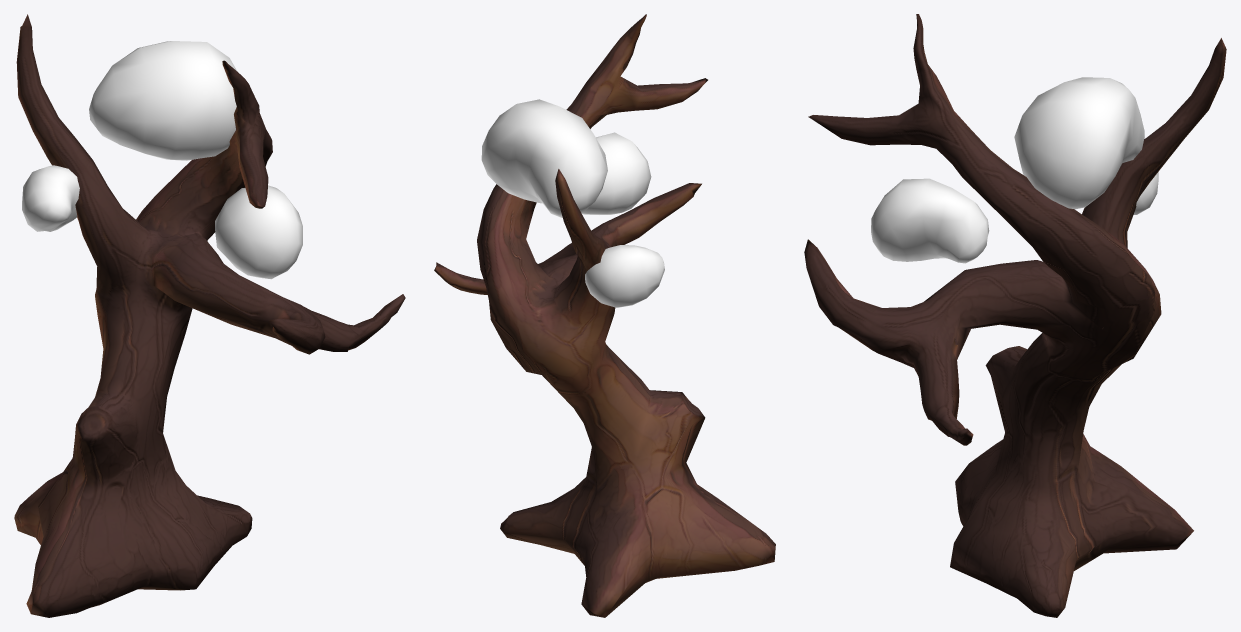
The model's file is tree4 1.fbx.
The picture shows the model from 3 angles, left to right: view 1: azimuth 30°, elevation 25°; view 2: azimuth 150°, elevation 25°; view 3: azimuth 270°, elevation 25°; orthographic projection. The views are drawn at different scales.
Parts seen in each view (by area): view 1: polySurface46; view 2: polySurface46; view 3: polySurface46.
Part boxes in pixels (x1,y1,x2,y2): polySurface46: (14, 14, 405, 617); polySurface46: (434, 14, 775, 617); polySurface46: (804, 14, 1226, 617).
Size of the model in its own units: 1130 by 1595 by 1071.
